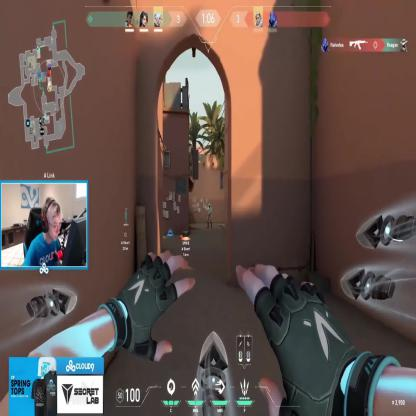enemy: (206, 202, 212, 229)
enemy_head: (209, 203, 210, 208)
